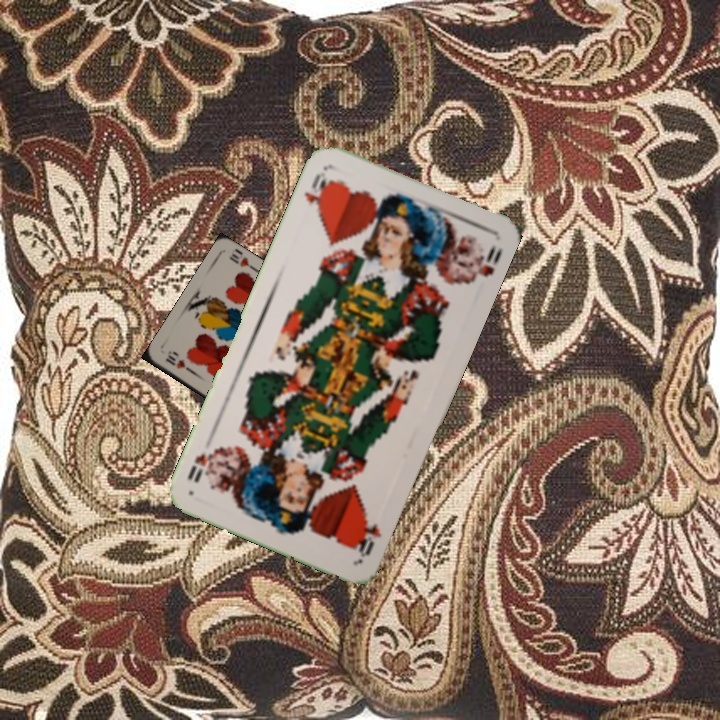H10: (162, 347, 197, 377)
HO: (299, 165, 335, 220), (351, 516, 384, 561)
